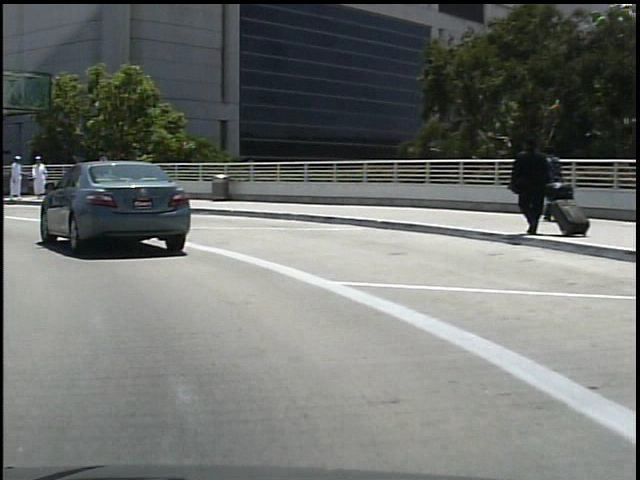person: (503, 139, 545, 234), (532, 144, 564, 232), (4, 150, 22, 204), (26, 153, 46, 199)
